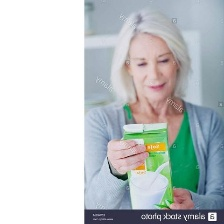carton: (120, 118, 177, 211)
